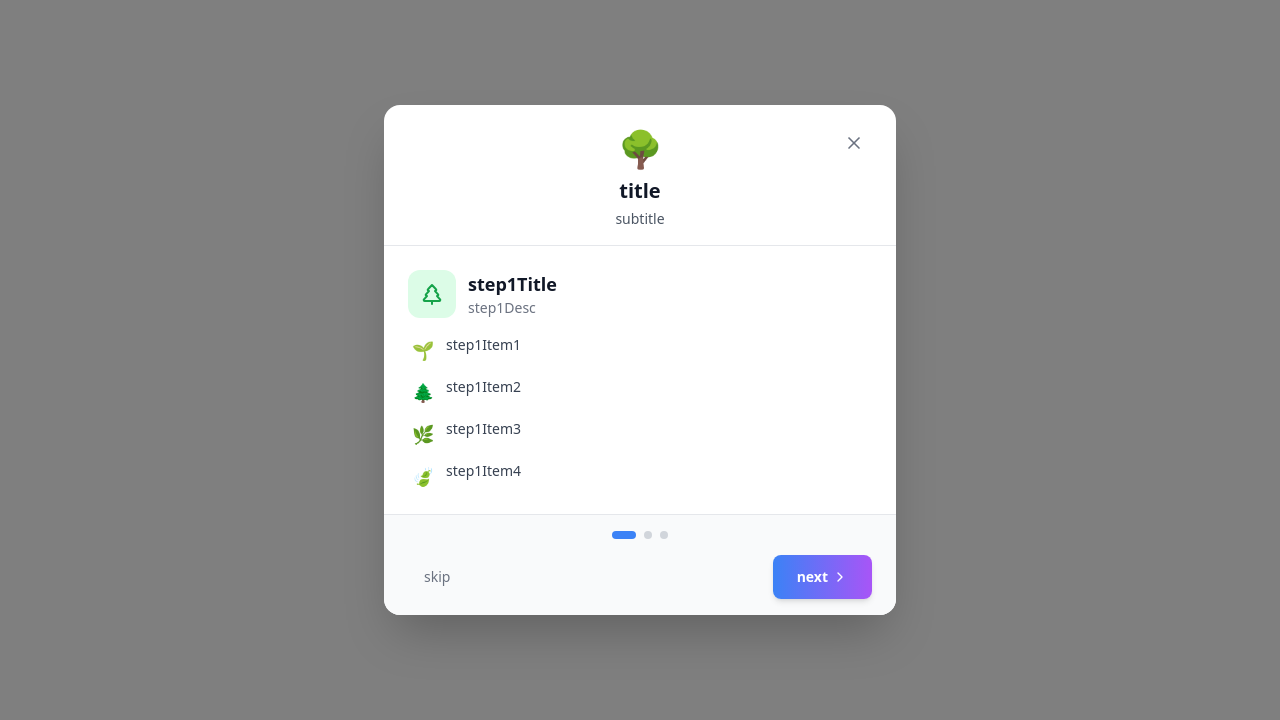
WelcomeModal › navigates back
Note: Go to step 2
Click the button "next" at {"x": 822, "y": 577}, box [773,555,872,599]
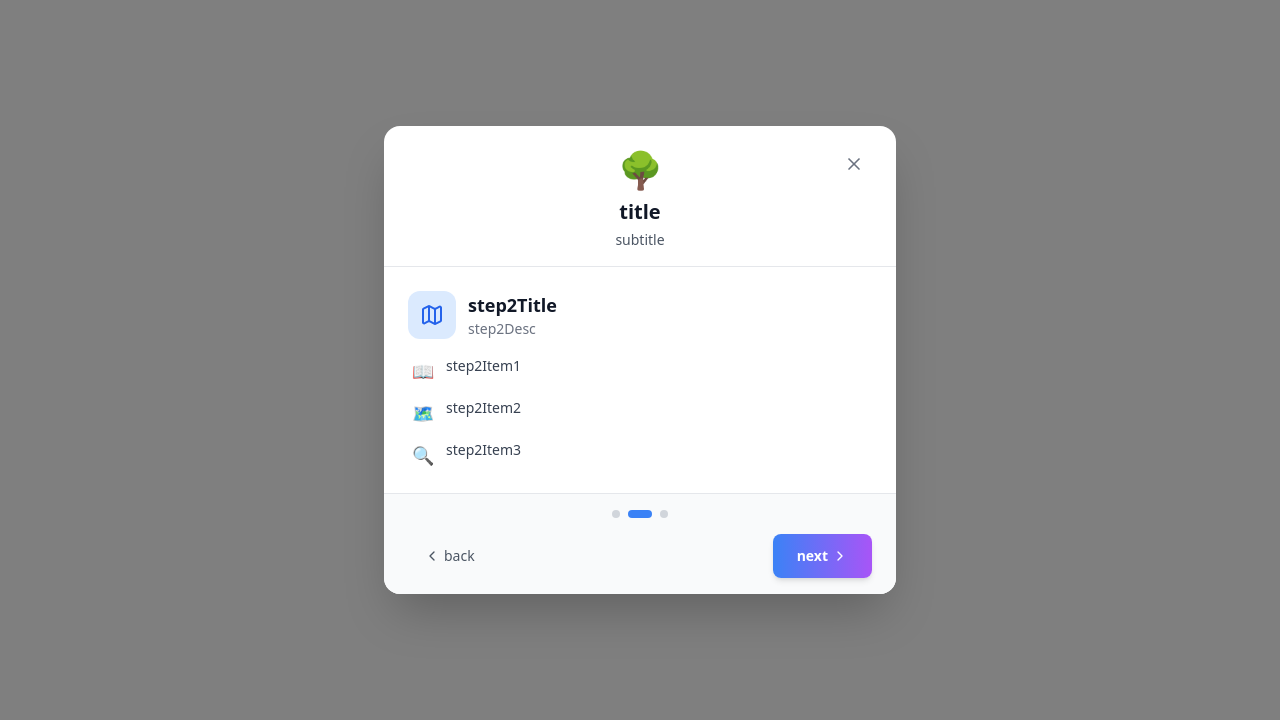
Check: the heading "step2Title" is shown, box [468,291,557,319]
Note: Go back to step 1
Click the button "back" at {"x": 449, "y": 556}, box [408,534,491,578]
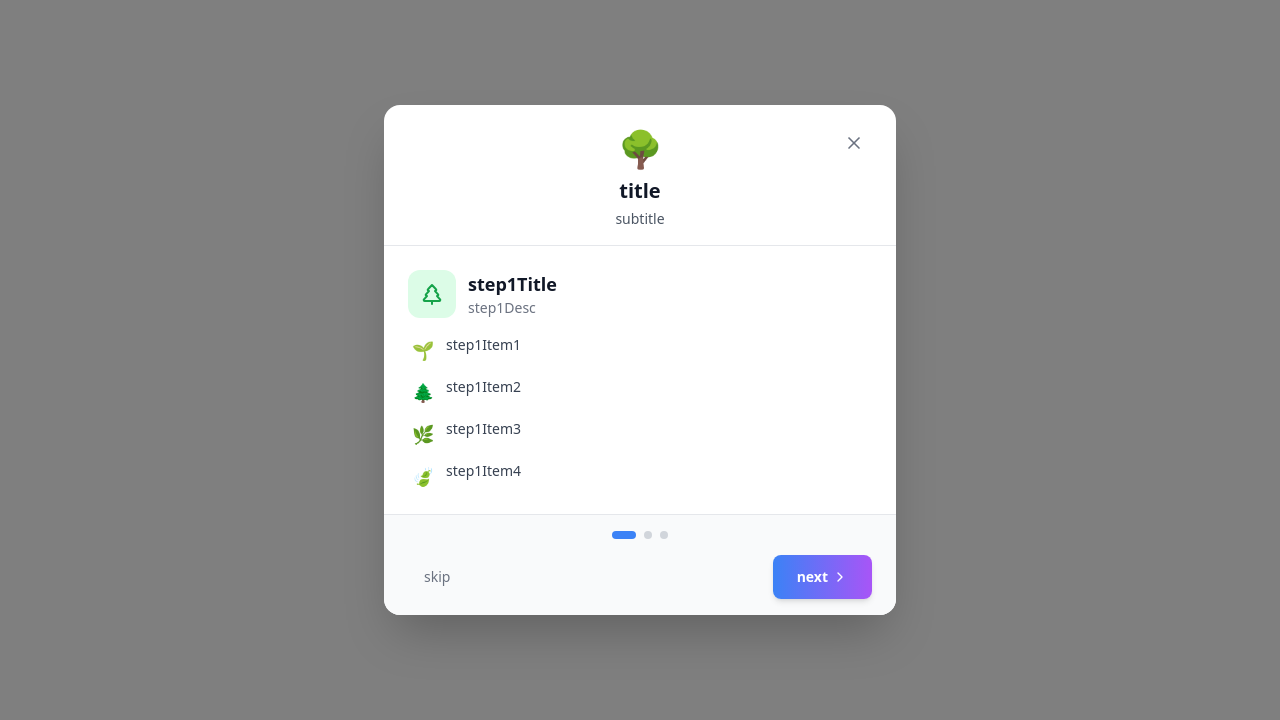
Check: the heading "step1Title" is shown, box [468,270,557,298]
